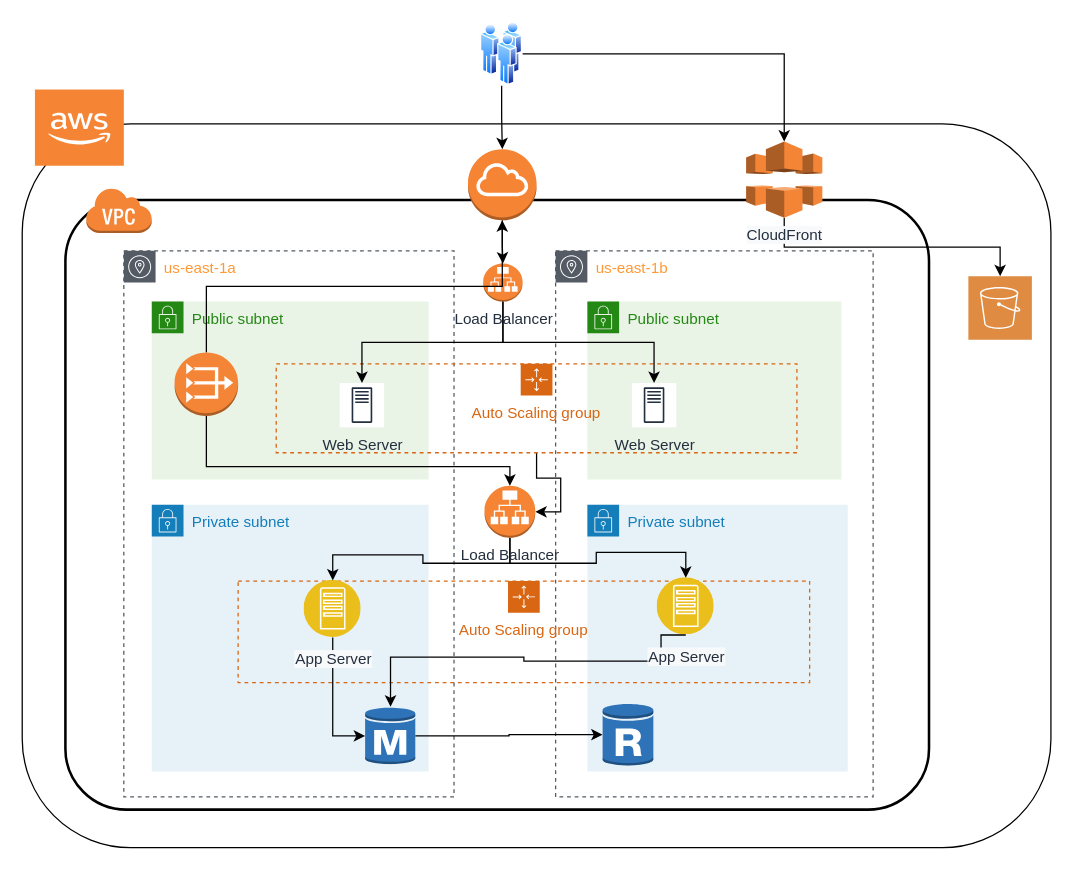
Image size: 1073x870. Some labels were removed from this diagram. The shapes that lost their labels are listed below. From the top down, each one's centre as x and y in pixels, then its label:
(501,53): Users
(79,127): US-EAST-1
(502,184): Internet Gateway
(999,307): AWS S3
(205,383): NAT Gateway
(389,735): Master RDS- M3.Large
(627,734): Read Replica RDS-M3.Large
